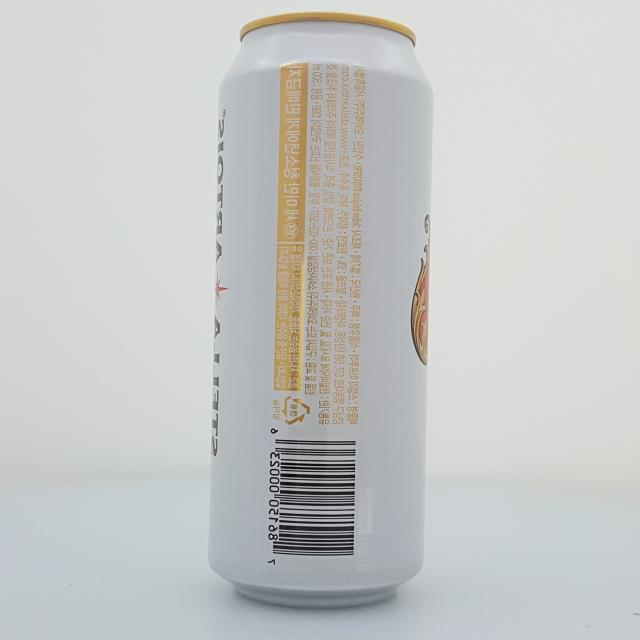metal: (210, 12, 432, 610)
